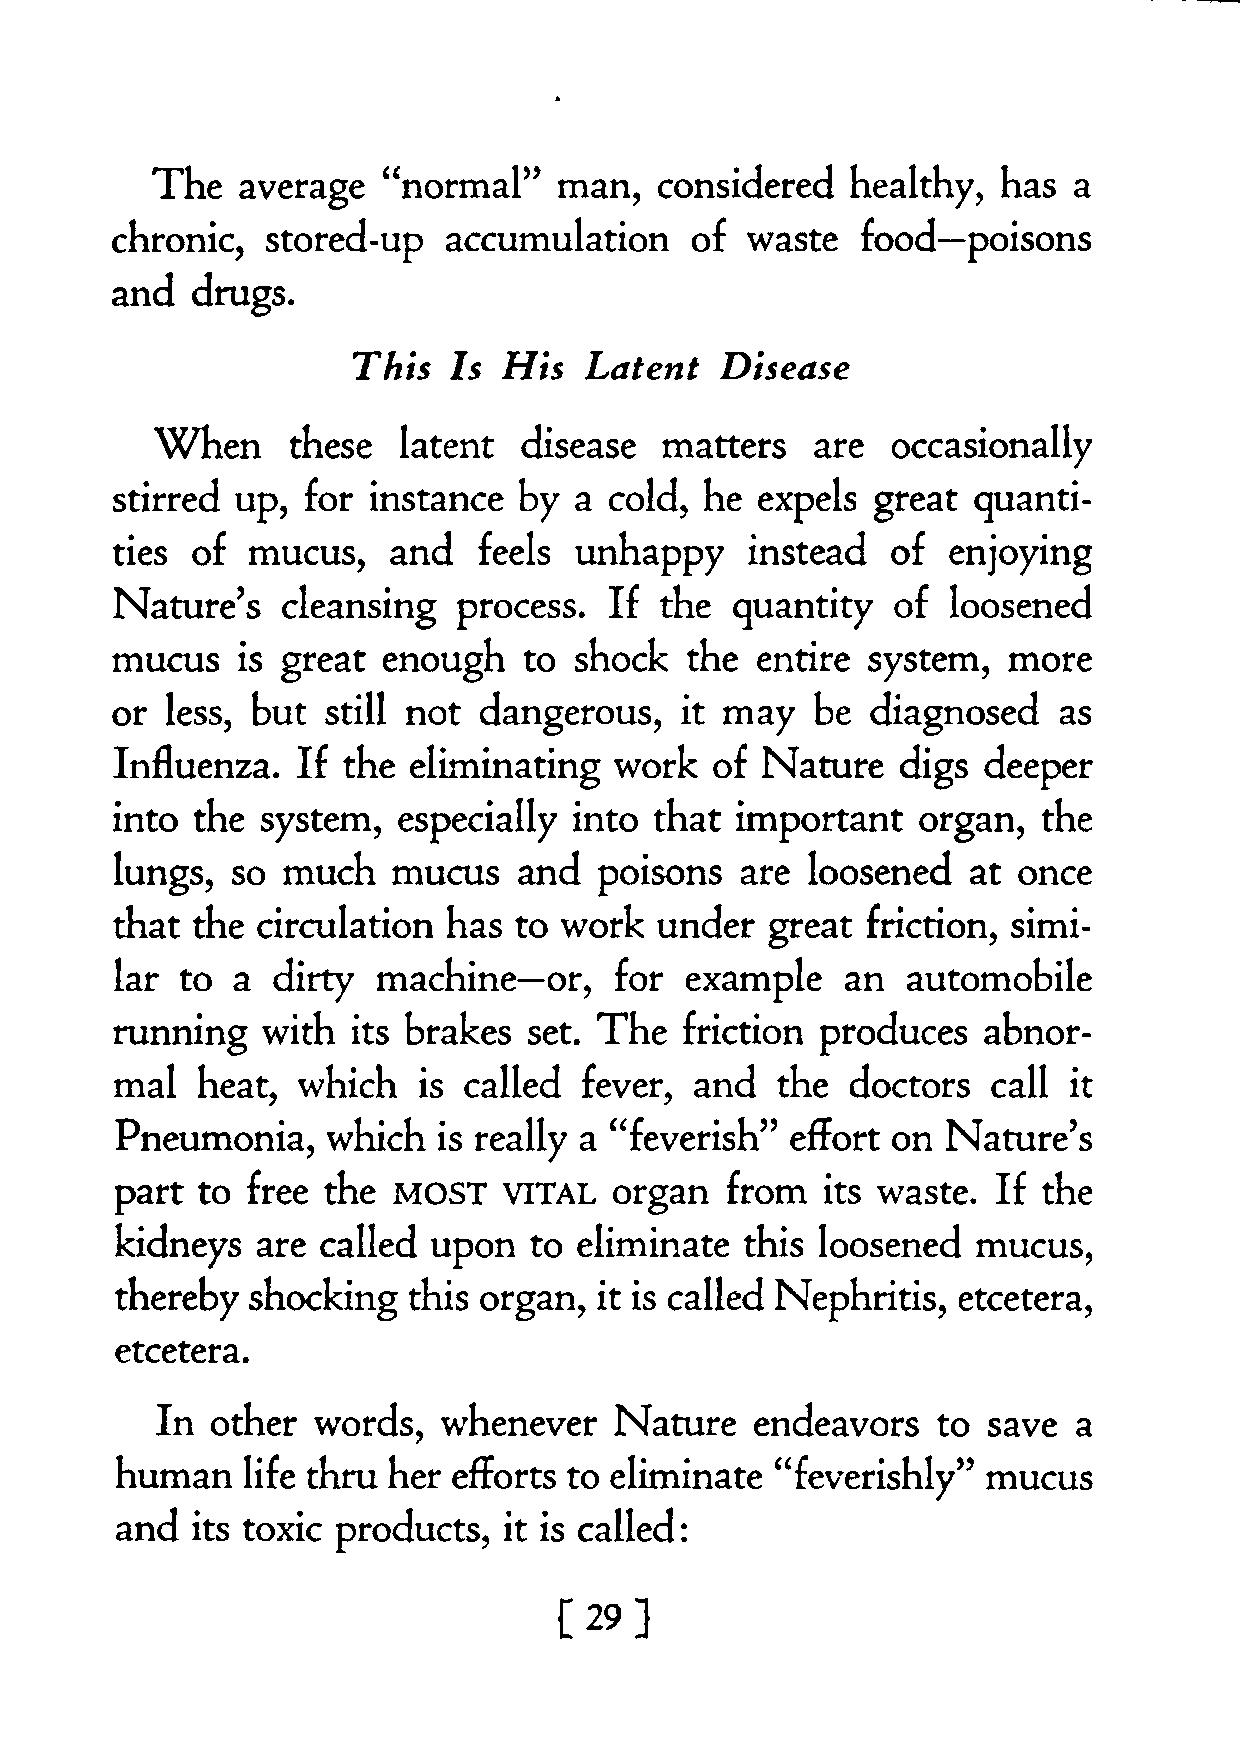chapter: (352, 342, 849, 388)
content: (107, 419, 1096, 1555), (103, 160, 1094, 319)
content_pagenumber: (578, 1602, 628, 1635)
